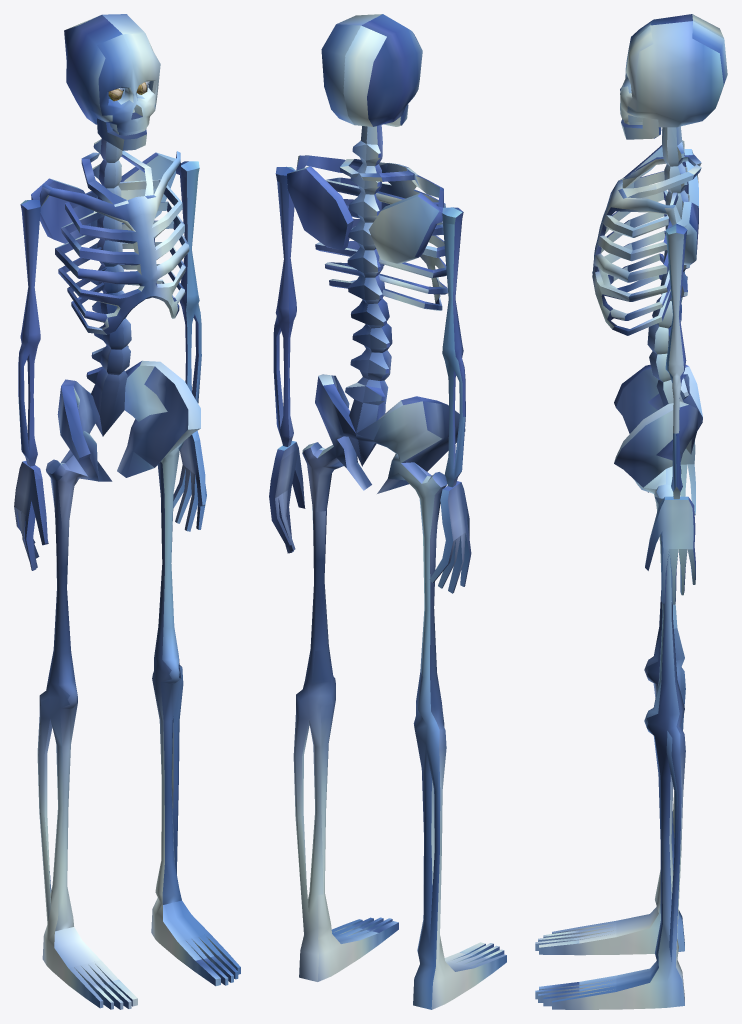
File: mummy.glb
The picture shows the model from 3 angles, left to right: view 1: azimuth 30°, elevation 25°; view 2: azimuth 150°, elevation 25°; view 3: azimuth 270°, elevation 25°; orthographic projection. The views are drawn at different scales.
Parts seen in each view (by area): view 1: Object; view 2: Object; view 3: Object.
Boxes of the visible parts, x1=… form: Object: x1=14, y1=14, x2=240, y2=1009; Object: x1=269, y1=14, x2=506, y2=1009; Object: x1=535, y1=14, x2=727, y2=1009.
Size of the model in its own units: 36.9 by 180 by 32.83.
1 material, 1 textured.
